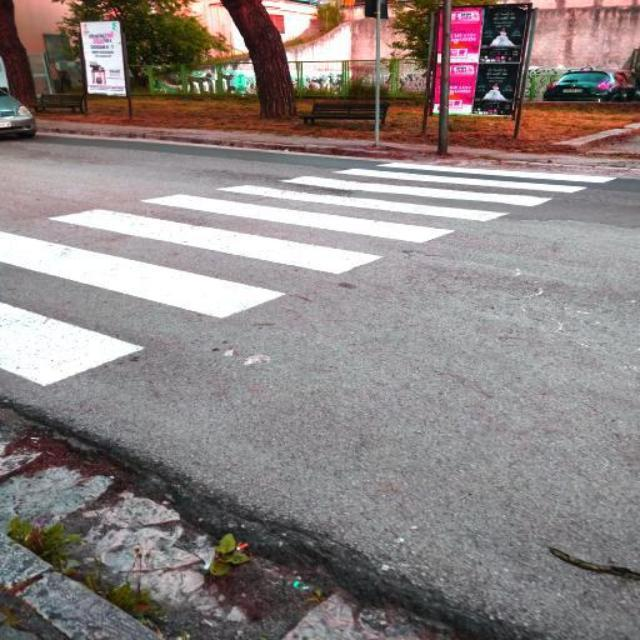sidewalk: (0, 153, 614, 407)
